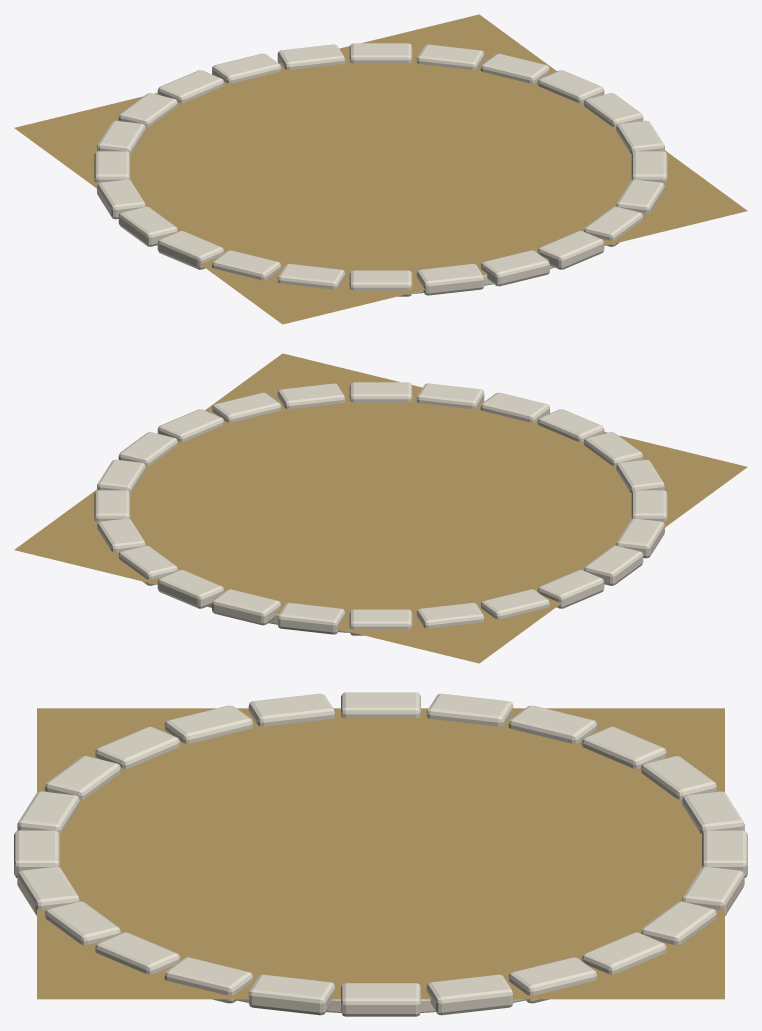
The model's file is Test_CheonRef_SealingCircle.fbx.
The picture shows the model from 3 angles, top to bottom: view 1: azimuth 30°, elevation 25°; view 2: azimuth 150°, elevation 25°; view 3: azimuth 270°, elevation 25°; orthographic projection. The views are drawn at different scales.
Parts seen in each view (by area): view 1: FlatRitualInlay, LowRimStone.018, LowRimStone.017, LowRimStone.019, LowRimStone.013, LowRimStone.012, LowRimStone.016, LowRimStone.006, LowRimStone.005, LowRimStone.014, LowRimStone.002, LowRimStone.004 (+13 smaller); view 2: FlatRitualInlay, LowRimStone.006, LowRimStone.007, LowRimStone.005, LowRimStone.011, LowRimStone.012, LowRimStone.008, LowRimStone.018, LowRimStone.019, LowRimStone.010, LowRimStone.022, LowRimStone.020 (+13 smaller); view 3: FlatRitualInlay, LowRimStone.001, LowRimStone.023, LowRimStone, LowRimStone.002, LowRimStone.022, LowRimStone.010, LowRimStone.014, LowRimStone.011, LowRimStone.013, LowRimStone.003, LowRimStone.021 (+13 smaller).
Boxes of the visible parts, <box> form: FlatRitualInlay: <box>14,14,747,324</box>; LowRimStone.018: <box>480,250,549,286</box>; LowRimStone.017: <box>416,263,484,295</box>; LowRimStone.019: <box>537,231,604,269</box>; LowRimStone.013: <box>157,231,224,269</box>; LowRimStone.012: <box>118,206,177,246</box>; LowRimStone.016: <box>349,270,412,296</box>; LowRimStone.006: <box>212,53,281,83</box>; LowRimStone.005: <box>277,44,345,69</box>; LowRimStone.014: <box>212,250,281,280</box>; LowRimStone.002: <box>480,53,549,83</box>; LowRimStone.004: <box>349,43,412,63</box>; FlatRitualInlay: <box>14,353,747,663</box>; LowRimStone.006: <box>212,589,281,625</box>; LowRimStone.007: <box>277,602,345,634</box>; LowRimStone.005: <box>157,570,224,608</box>; LowRimStone.011: <box>537,570,604,608</box>; LowRimStone.012: <box>584,545,643,585</box>; LowRimStone.008: <box>349,609,412,635</box>; LowRimStone.018: <box>480,392,549,422</box>; LowRimStone.019: <box>416,383,484,408</box>; LowRimStone.010: <box>480,589,549,619</box>; LowRimStone.022: <box>212,392,281,422</box>; LowRimStone.020: <box>349,382,412,402</box>; FlatRitualInlay: <box>37,708,724,999</box>; LowRimStone.001: <box>426,974,513,1015</box>; LowRimStone.023: <box>248,974,335,1015</box>; LowRimStone: <box>341,983,420,1016</box>; LowRimStone.002: <box>508,957,597,1003</box>; LowRimStone.022: <box>164,957,253,1003</box>; LowRimStone.010: <box>508,705,597,743</box>; LowRimStone.014: <box>164,705,253,743</box>; LowRimStone.011: <box>426,693,513,726</box>; LowRimStone.013: <box>248,693,335,726</box>; LowRimStone.003: <box>581,932,666,974</box>; LowRimStone.021: <box>95,932,180,974</box>.
Bounding box in the file's own units: 512 × 18.5 × 512.
